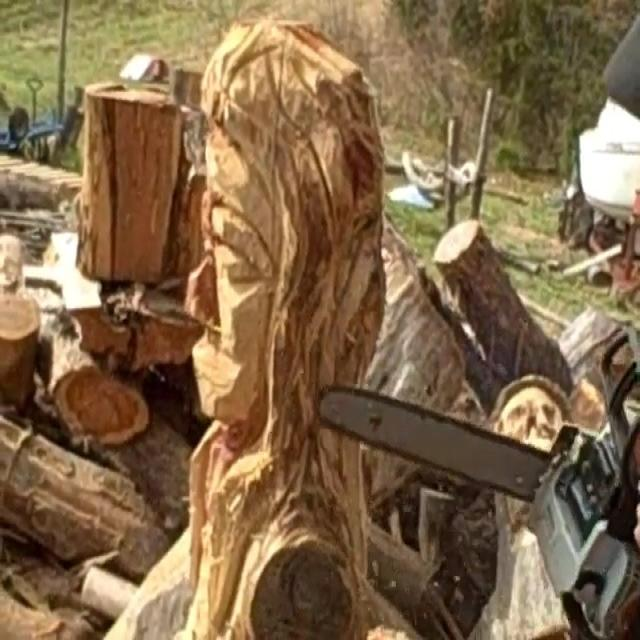Chainsaw: (304, 322, 640, 640)
